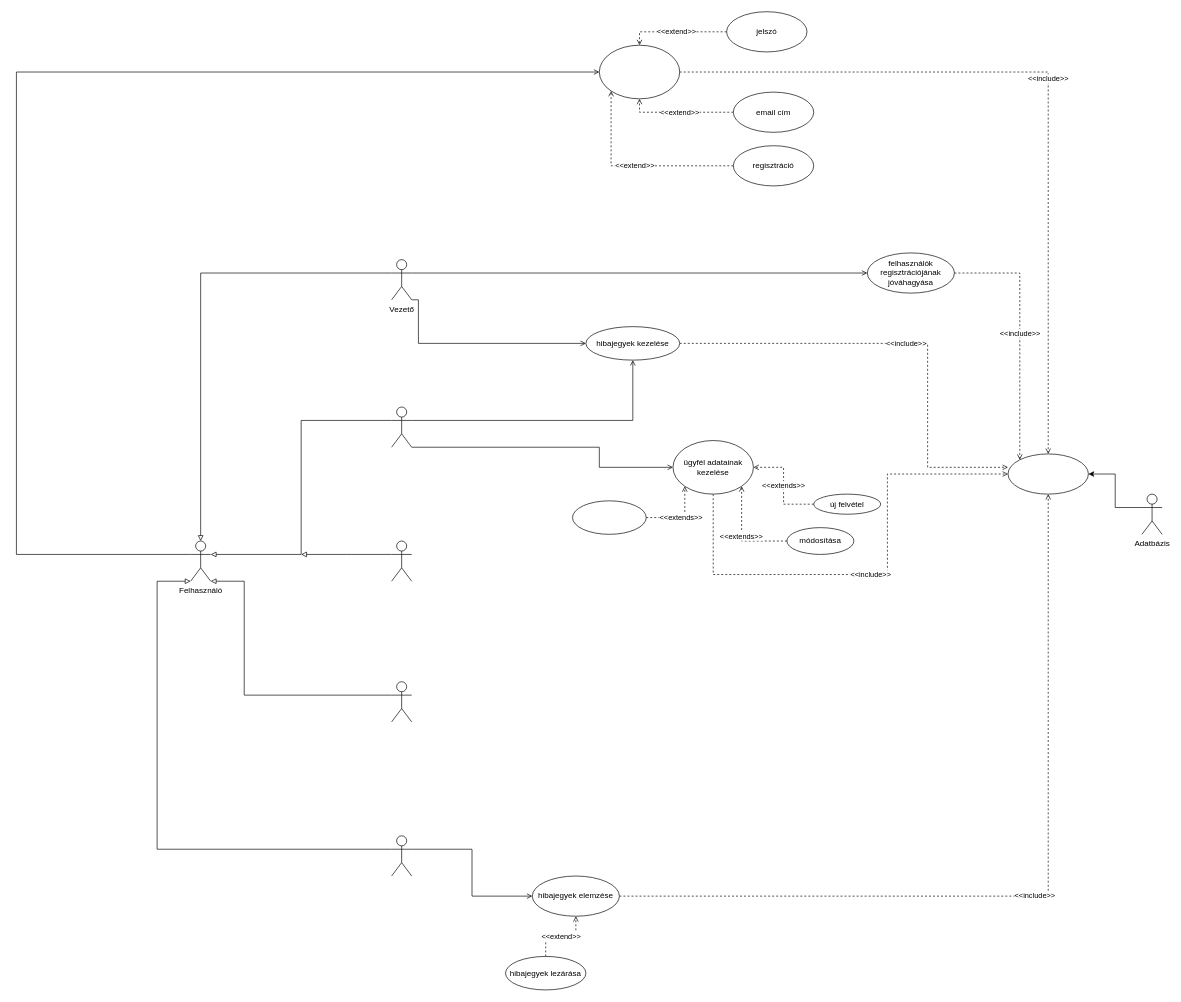
This 1181x1002 diagram has some shape labels left out. The centre of each missing label's shape, as x and y in pixels:
"adatok kezelése" goes at point (1047, 473).
"Fejlesztő" goes at point (401, 560).
"felhasználó azonosítása" goes at point (639, 72).
"Hardverszerelő" goes at point (401, 855).
"Tesztelő" goes at point (401, 701).
"törlése" goes at point (609, 517).
"Ügyintéző" goes at point (401, 426).
